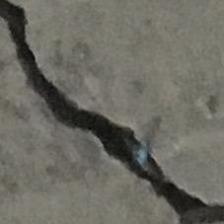Crack: (0, 3, 212, 223)
